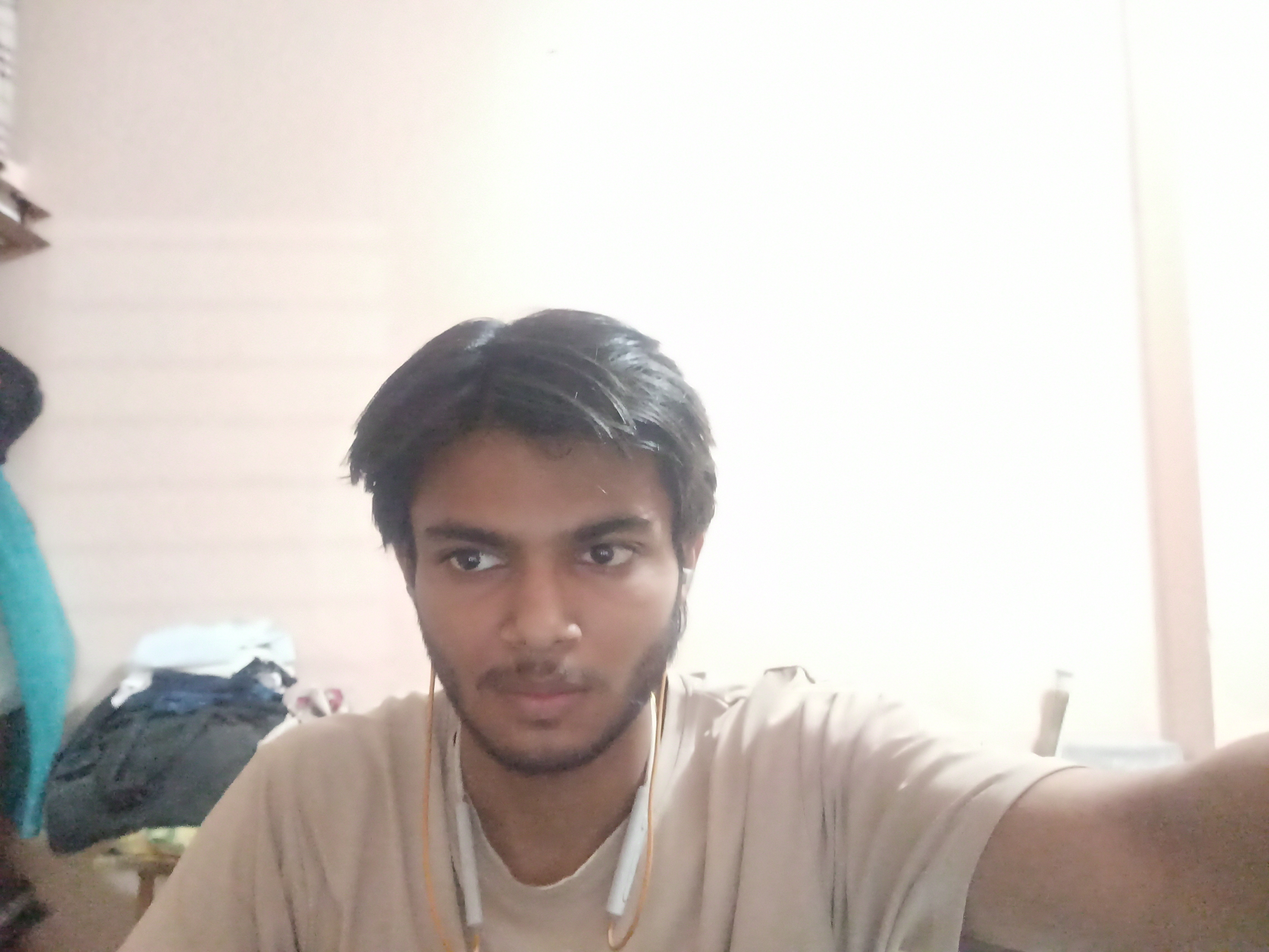Focused: (317, 330, 764, 814)
